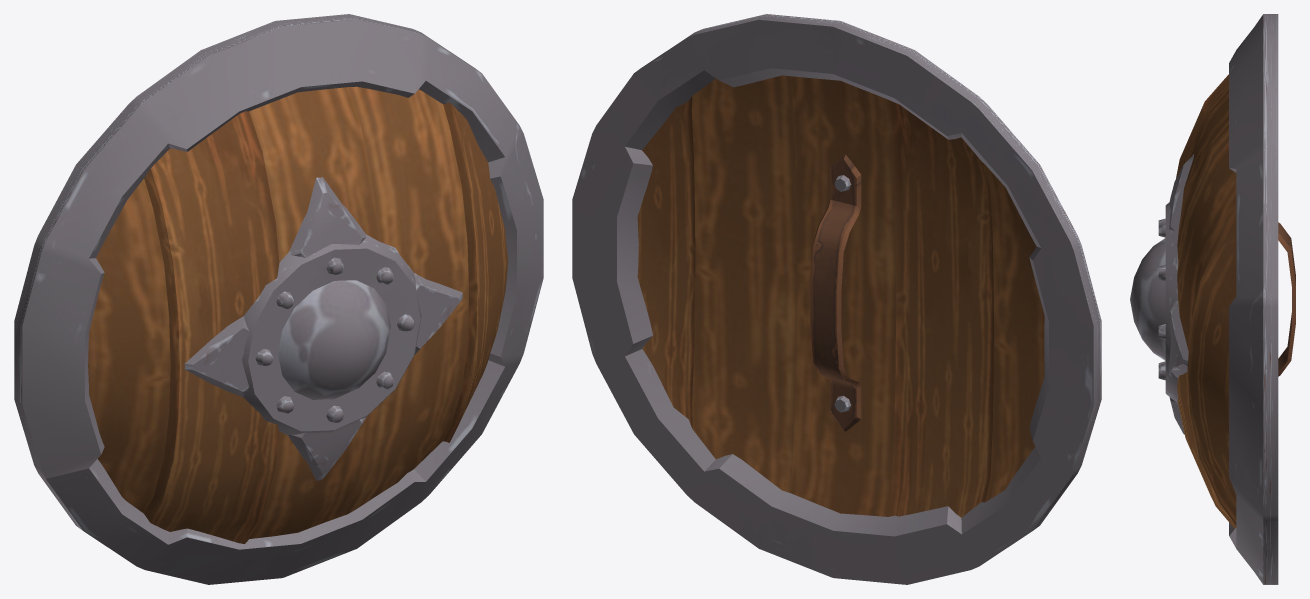
File: shield.glb
The picture shows the model from 3 angles, left to right: view 1: azimuth 30°, elevation 25°; view 2: azimuth 150°, elevation 25°; view 3: azimuth 270°, elevation 25°; orthographic projection. The views are drawn at different scales.
Parts seen in each view (by area): view 1: shield_1, shield_0; view 2: shield_0, shield_1, shield_2; view 3: shield_1, shield_0, shield_2.
Part boxes in pixels (box(x1,y1,x2,y2)): shield_1: box(14, 14, 543, 584); shield_0: box(88, 86, 508, 543); shield_0: box(637, 75, 1044, 517); shield_1: box(572, 14, 1101, 584); shield_2: box(810, 154, 861, 431); shield_1: box(1130, 14, 1278, 584); shield_0: box(1176, 74, 1236, 528); shield_2: box(1278, 222, 1295, 376).
Bounding box in the file's own units: 0.6146 × 0.6209 × 0.1788.
Materials: 3 (3 with a texture image).
